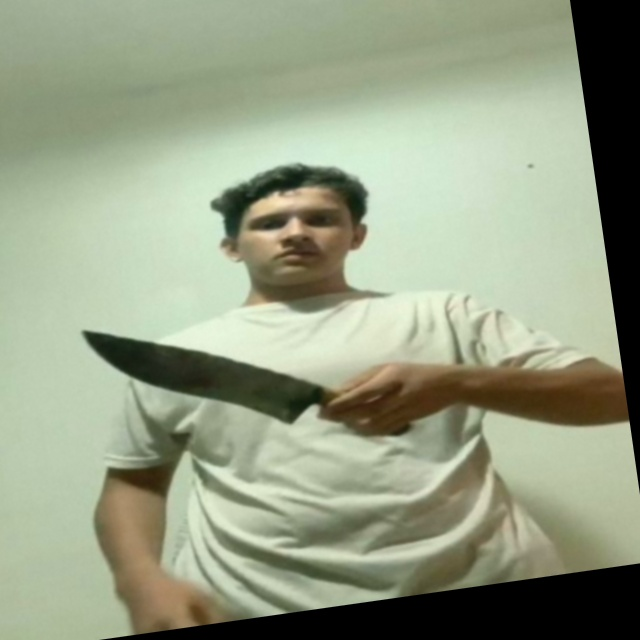Sharp-Object: (80, 299, 324, 450)
